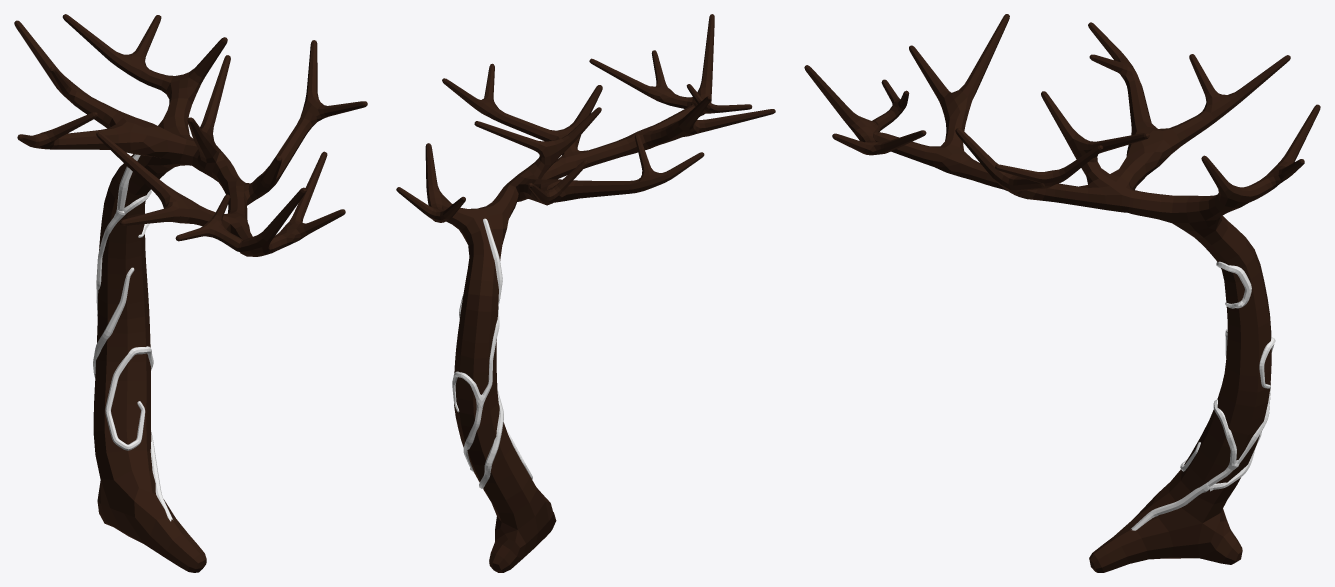
File: light_tree.fbx
3 views of the same model, side by side, from view 1: azimuth 30°, elevation 25°; view 2: azimuth 150°, elevation 25°; view 3: azimuth 270°, elevation 25° (orthographic). The views are drawn at different scales.
Visible parts, largest first — view 1: Cube, Cube.001; view 2: Cube, Cube.001; view 3: Cube, Cube.001.
Part boxes in pixels (x1=…): Cube: x1=14, y1=14, x2=367, y2=572; Cube.001: x1=93, y1=154, x2=172, y2=521; Cube: x1=396, y1=14, x2=775, y2=572; Cube.001: x1=452, y1=218, x2=532, y2=488; Cube: x1=804, y1=14, x2=1320, y2=572; Cube.001: x1=1131, y1=261, x2=1275, y2=530.
Bounding box in the file's own units: 408 × 656 × 626.
